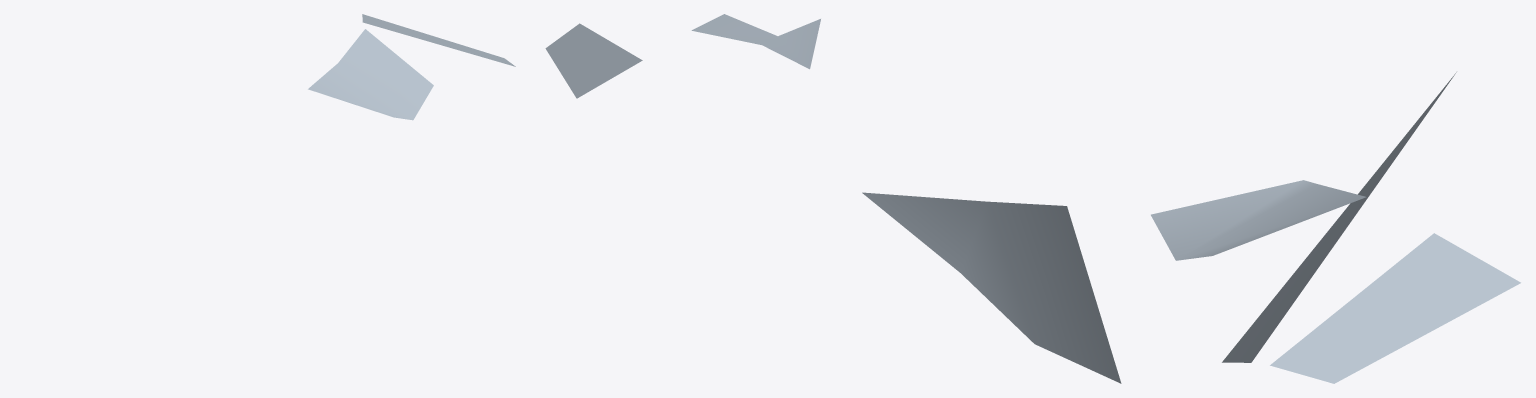
File: plantar-cuneonavicular-ligaments-l.glb
3 renders of one model, left to right at view 1: azimuth 30°, elevation 25°; view 2: azimuth 150°, elevation 25°; view 3: azimuth 270°, elevation 25°, orthographic. The views are drawn at different scales.
Parts seen in each view (by area): view 1: Plantar cuneonavicular ligaments.l; view 2: Plantar cuneonavicular ligaments.l; view 3: Plantar cuneonavicular ligaments.l.
Boxes of the visible parts, x1=… form: Plantar cuneonavicular ligaments.l: x1=308, y1=14, x2=515, y2=120; Plantar cuneonavicular ligaments.l: x1=545, y1=14, x2=1121, y2=383; Plantar cuneonavicular ligaments.l: x1=1151, y1=72, x2=1520, y2=383.
Bounding box in the file's own units: 0.0225 × 0.0116 × 0.00981.
